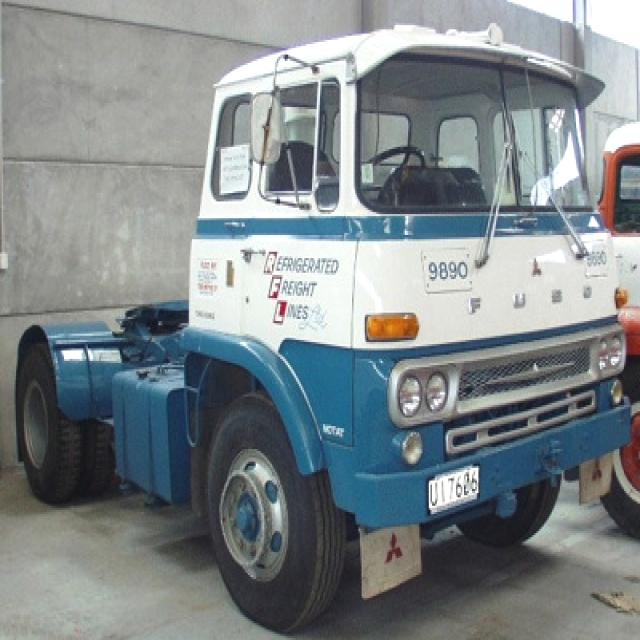truck: (13, 22, 632, 626)
